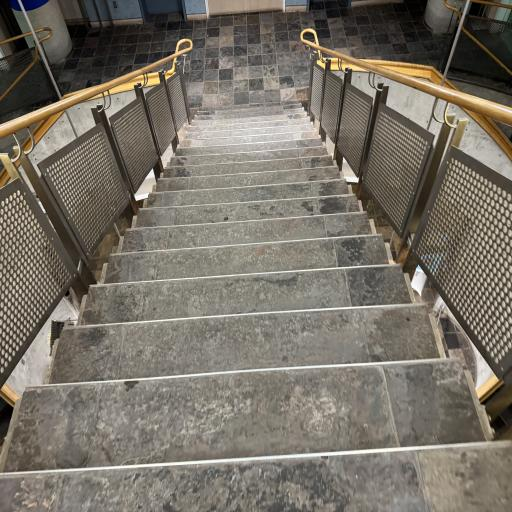Stairs: (0, 101, 512, 512), (4, 359, 484, 471), (122, 212, 371, 252), (135, 193, 361, 227)
